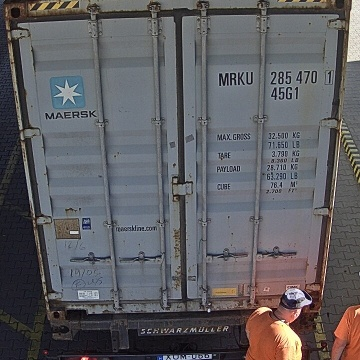serial_id: (219, 70, 333, 85)
